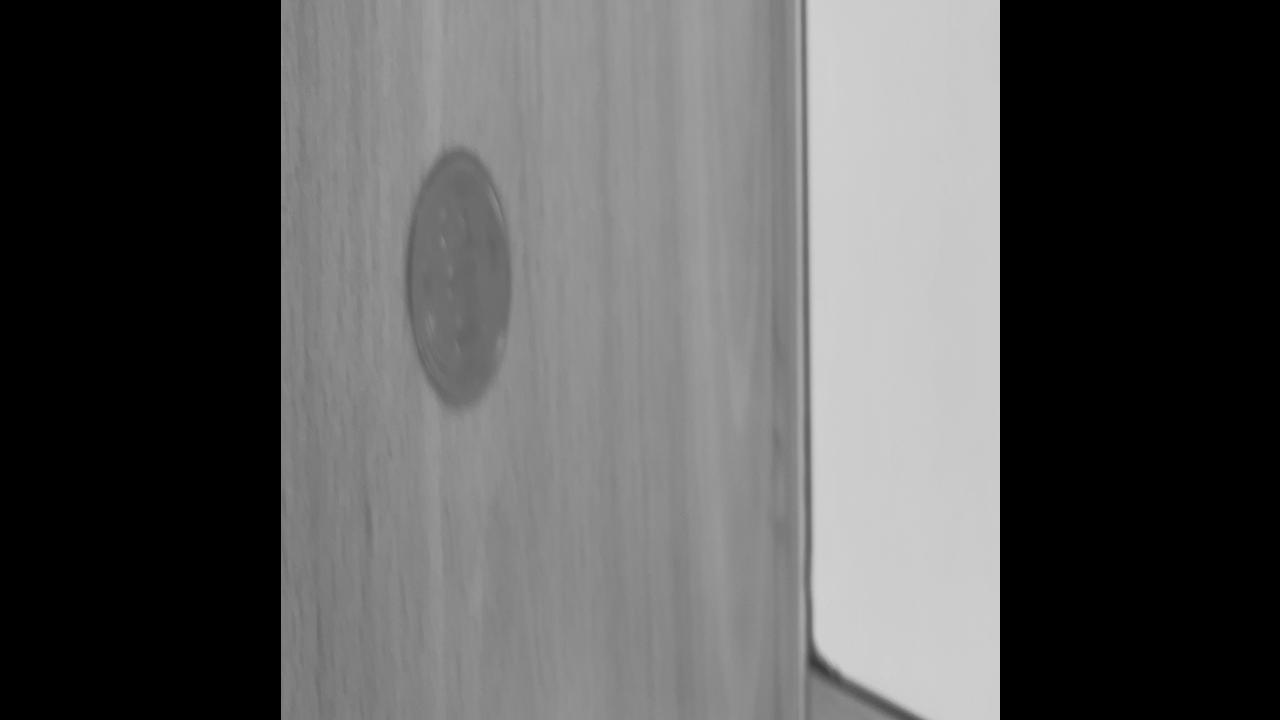coin: (404, 142, 514, 415)
